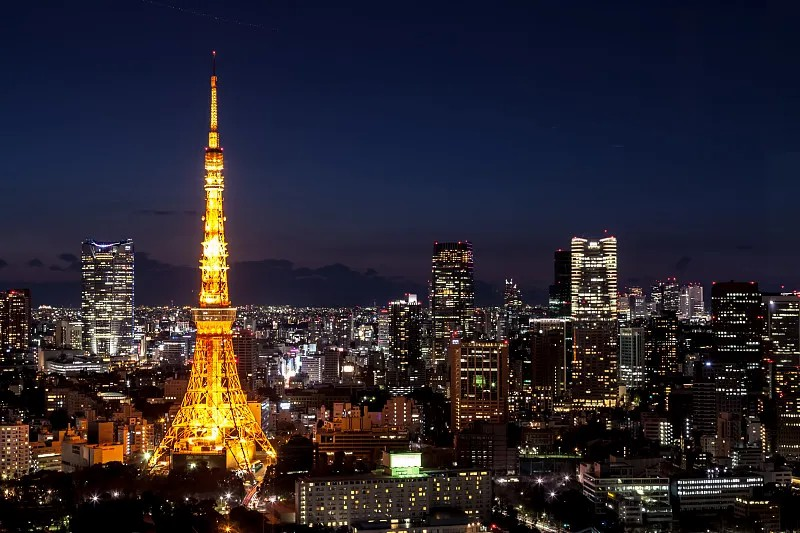Tokyo: (147, 48, 276, 470)
